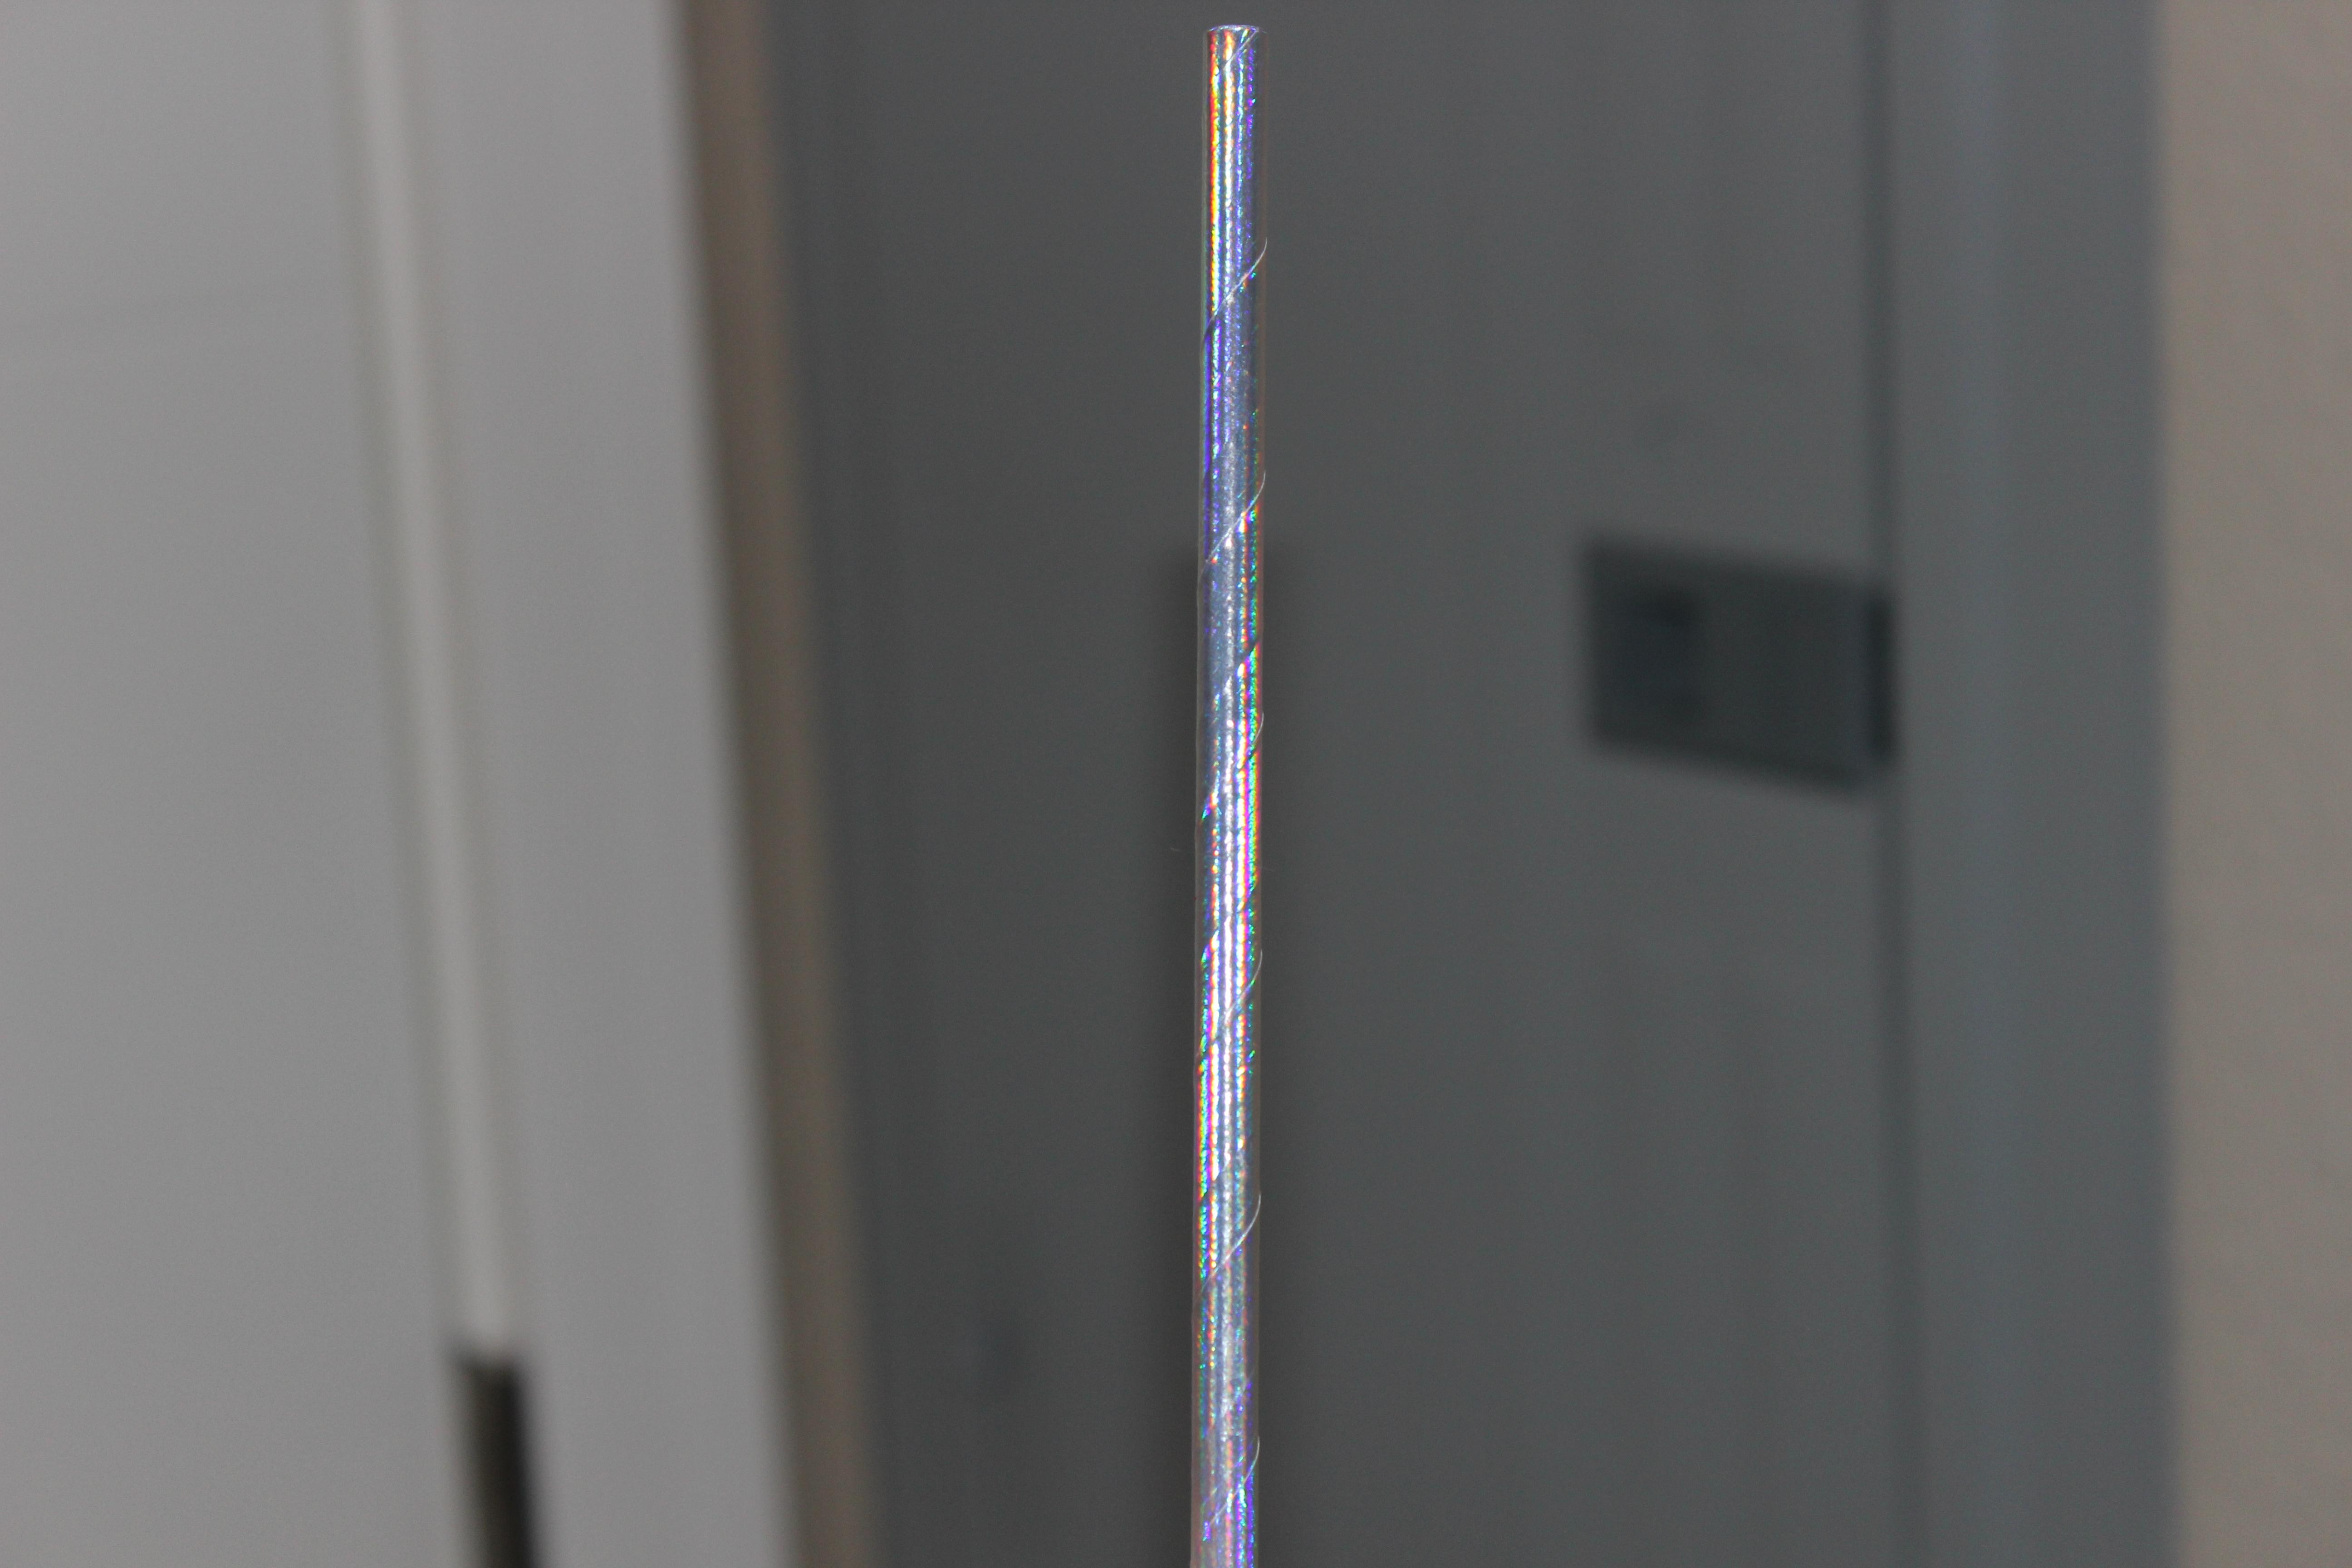silverStraw: (1143, 7, 1332, 1568)
